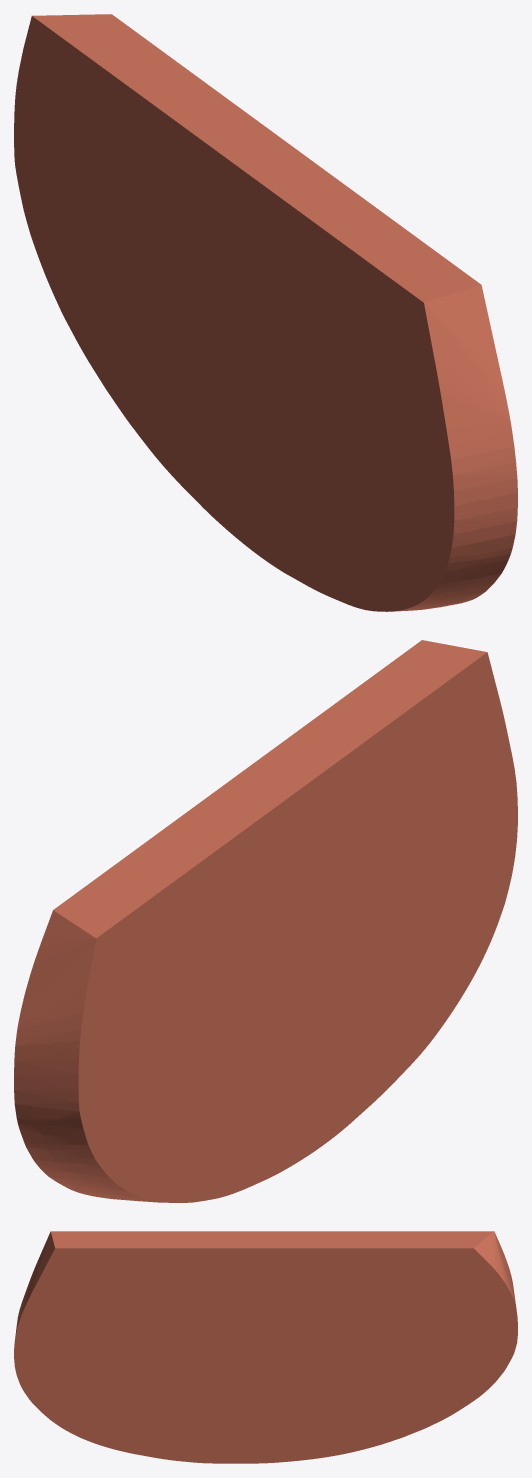
File: convex_piece_9.obj
3 views of the same model, one above another, from view 1: azimuth 30°, elevation 25°; view 2: azimuth 150°, elevation 25°; view 3: azimuth 270°, elevation 25° (orthographic). The views are drawn at different scales.
Size of the model in its own units: 0.00557 by 0.0329 by 0.0698.
